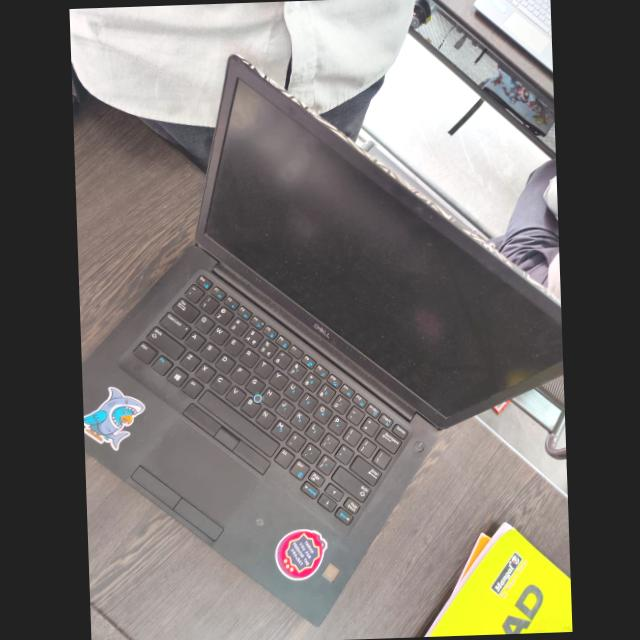laptop: (69, 26, 570, 584)
